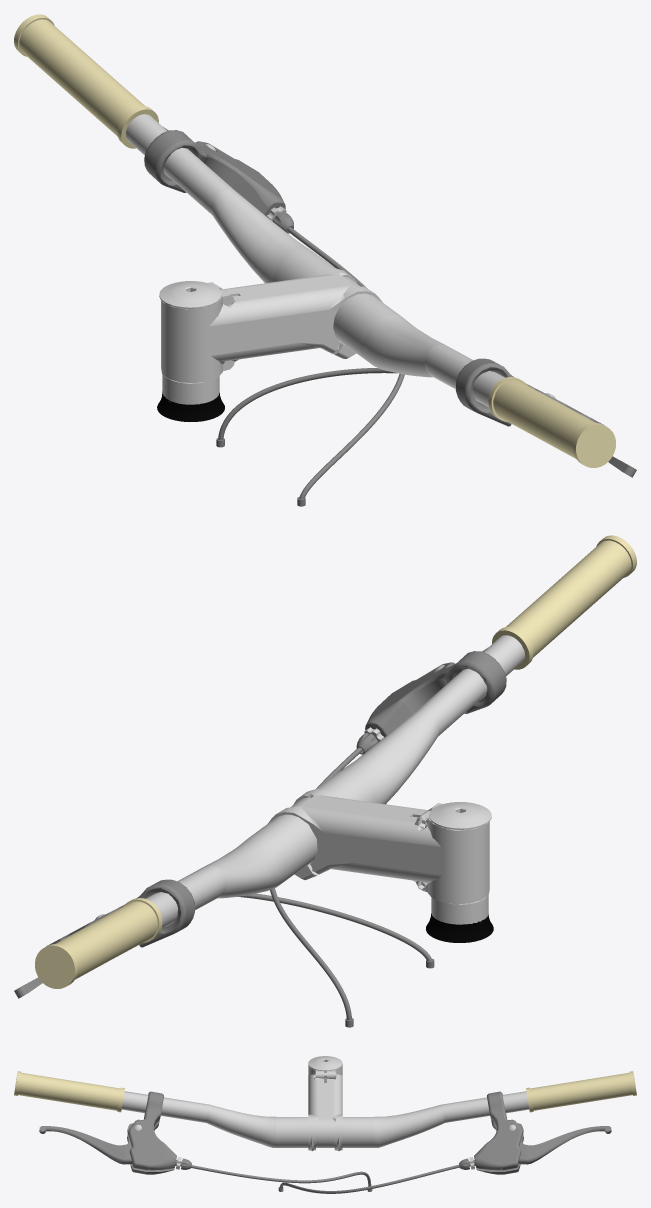
The model's file is Handle1_Riser_NoShifter.glb.
3 renders of one model, top to bottom at view 1: azimuth 30°, elevation 25°; view 2: azimuth 150°, elevation 25°; view 3: azimuth 270°, elevation 25°, orthographic. The views are drawn at different scales.
Parts seen in each view (by area): view 1: no_transformations (×6); view 2: no_transformations (×6); view 3: no_transformations (×5).
Part boxes in pixels (left/top/right/bottom): no_transformations (×6): left=14, top=14, right=636, bottom=506; no_transformations (×6): left=14, top=535, right=636, bottom=1027; no_transformations (×5): left=14, top=1056, right=636, bottom=1193.
Bounding box in the file's own units: 175 × 149 × 632.
